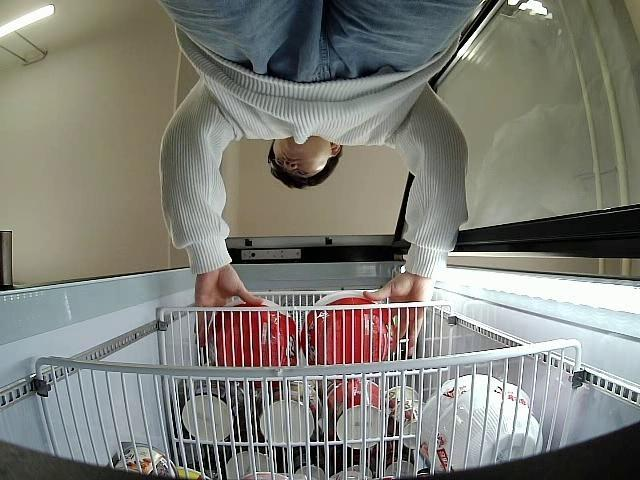10_wangTtukkeong: (304, 292, 394, 364), (210, 300, 296, 369)
